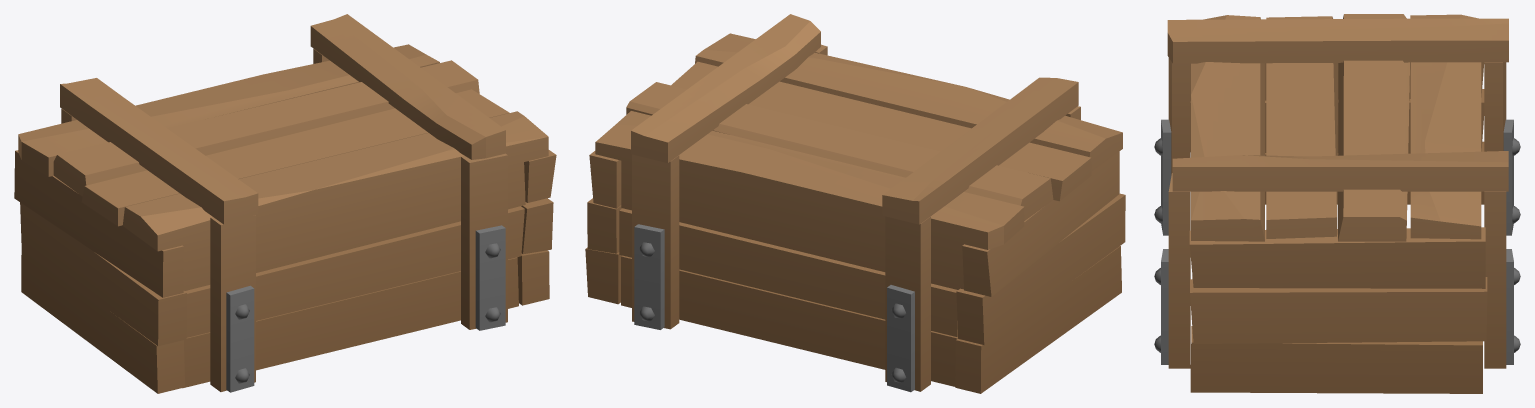
File: Box_Wood_E.fbx
3 renders of one model, left to right at view 1: azimuth 30°, elevation 25°; view 2: azimuth 150°, elevation 25°; view 3: azimuth 270°, elevation 25°, orthographic. The views are drawn at different scales.
Visible parts, largest first — view 1: Box_Wood_E; view 2: Box_Wood_E; view 3: Box_Wood_E.
Boxes of the visible parts, <box> form: Box_Wood_E: <box>14,14,556,393</box>; Box_Wood_E: <box>585,14,1125,393</box>; Box_Wood_E: <box>1154,14,1520,393</box>.
Size of the model in its own units: 130 by 58.36 by 95.98.
